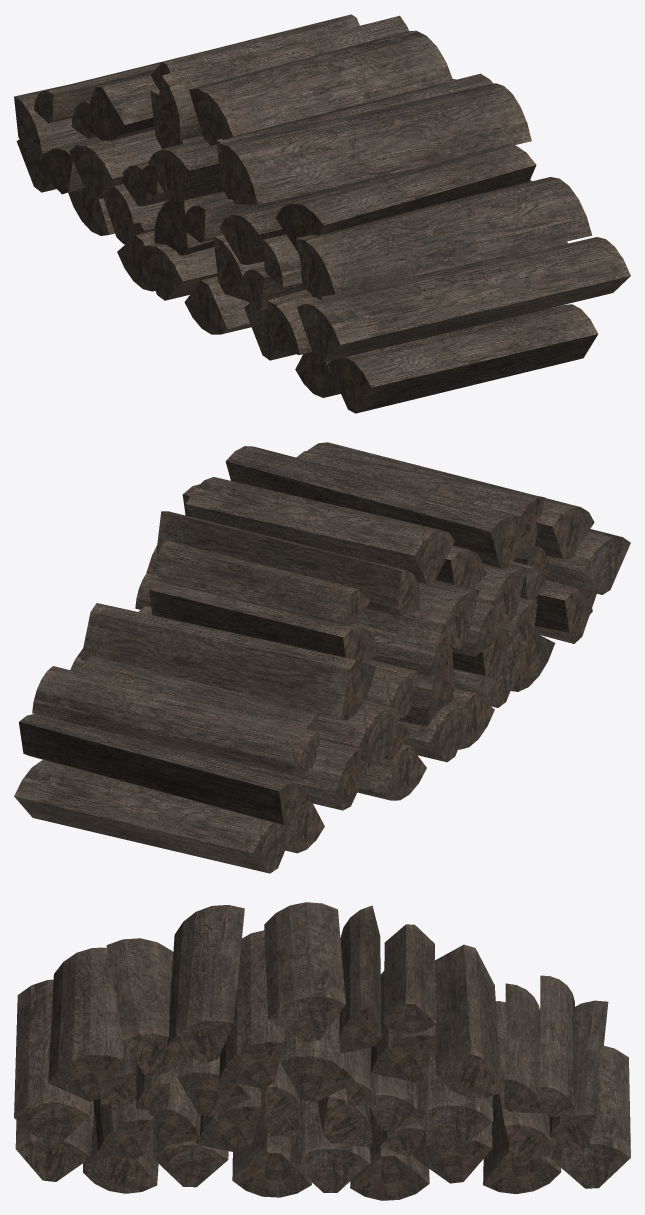
File: Logpile_1.FBX
3 renders of one model, top to bottom at view 1: azimuth 30°, elevation 25°; view 2: azimuth 150°, elevation 25°; view 3: azimuth 270°, elevation 25°, orthographic. The views are drawn at different scales.
Visible parts, largest first — view 1: mesh; view 2: mesh; view 3: mesh.
Part boxes in pixels (bbox=[...]): mesh: bbox=[14, 14, 630, 413]; mesh: bbox=[14, 442, 630, 873]; mesh: bbox=[14, 902, 630, 1200].
Bounding box in the file's own units: 78.65 × 162 × 57.95.
